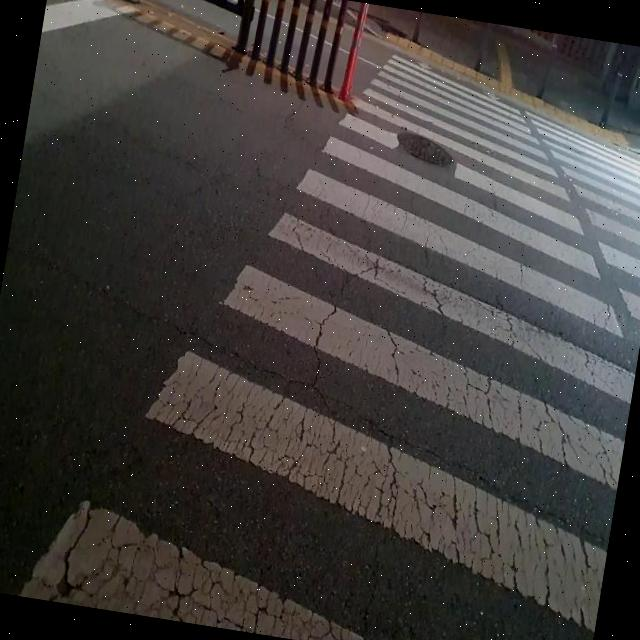crosswalk: (18, 48, 640, 640)
